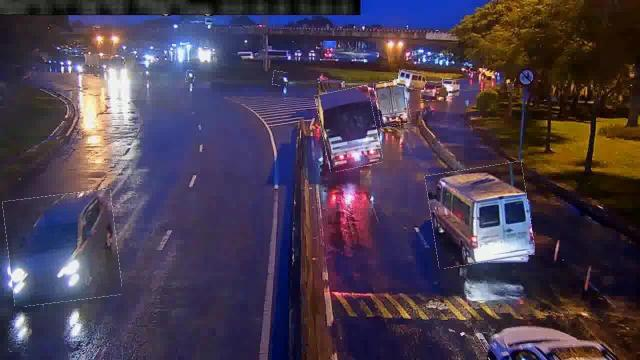Bike: (272, 71, 288, 85), (186, 70, 194, 82)
Bus: (428, 164, 532, 266), (398, 70, 426, 89)
Car: (5, 192, 119, 304), (421, 82, 449, 100), (442, 79, 460, 89)
Truck: (318, 88, 380, 170), (375, 80, 409, 126)
